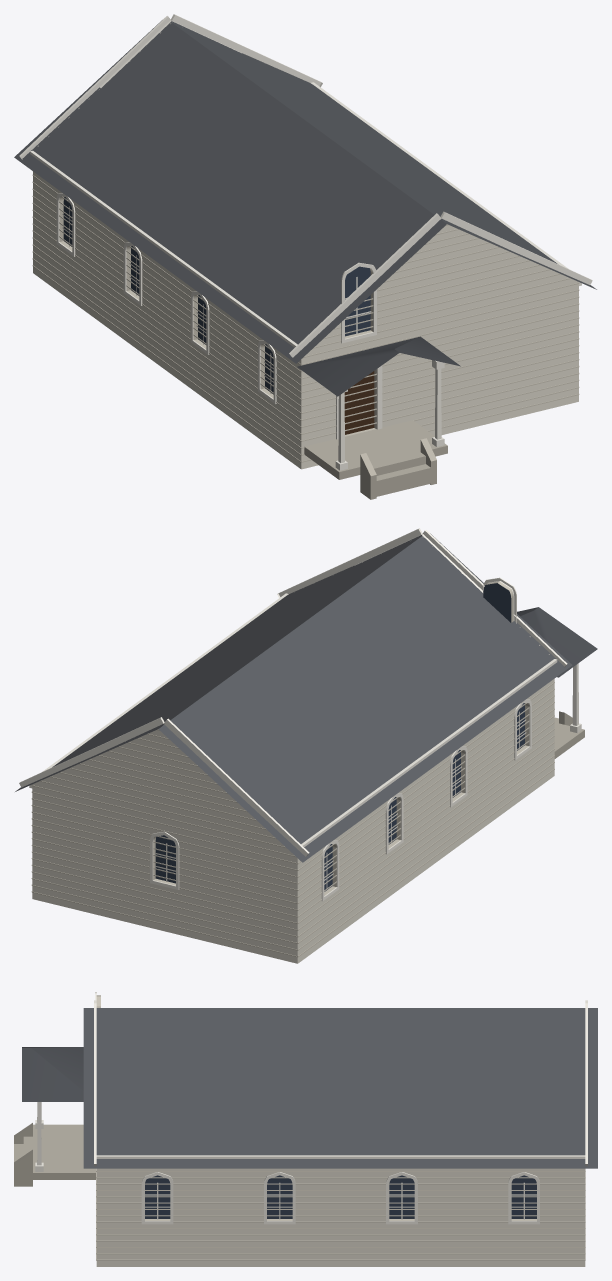
Rendered from ch-lees-chapel-1961.glb.
3 renders of one model, top to bottom at view 1: azimuth 30°, elevation 25°; view 2: azimuth 150°, elevation 25°; view 3: azimuth 270°, elevation 25°, orthographic. The views are drawn at different scales.
Visible parts, largest first — view 1: ch_roof, ch_brick, ch_brick2, ch_trim, ch_conc, ch_roof2, ch_stain, ch_door; view 2: ch_roof, ch_brick, ch_brick2, ch_trim, ch_stain, ch_roof2, ch_conc; view 3: ch_roof, ch_brick, ch_brick2, ch_trim, ch_stain, ch_conc, ch_roof2.
Part boxes in pixels (x1,y1,x2,y2): ch_roof: [14, 20, 596, 363]; ch_brick: [33, 171, 578, 469]; ch_brick2: [32, 23, 579, 462]; ch_trim: [19, 14, 592, 470]; ch_conc: [304, 420, 447, 499]; ch_roof2: [297, 336, 460, 396]; ch_stain: [63, 197, 370, 394]; ch_door: [344, 371, 374, 434]; ch_roof: [15, 533, 572, 862]; ch_brick: [32, 679, 554, 963]; ch_brick2: [31, 536, 554, 957]; ch_trim: [19, 528, 581, 901]; ch_stain: [155, 583, 524, 891]; ch_roof2: [517, 607, 597, 677]; ch_conc: [554, 711, 584, 758]; ch_roof: [83, 1008, 597, 1168]; ch_brick: [96, 1168, 585, 1266]; ch_brick2: [96, 995, 585, 1260]; ch_trim: [35, 992, 587, 1224]; ch_stain: [145, 1175, 536, 1218]; ch_conc: [14, 1123, 95, 1186]; ch_roof2: [22, 1047, 83, 1101].
Bounding box in the file's own units: 10.02 × 7.17 × 18.4.
